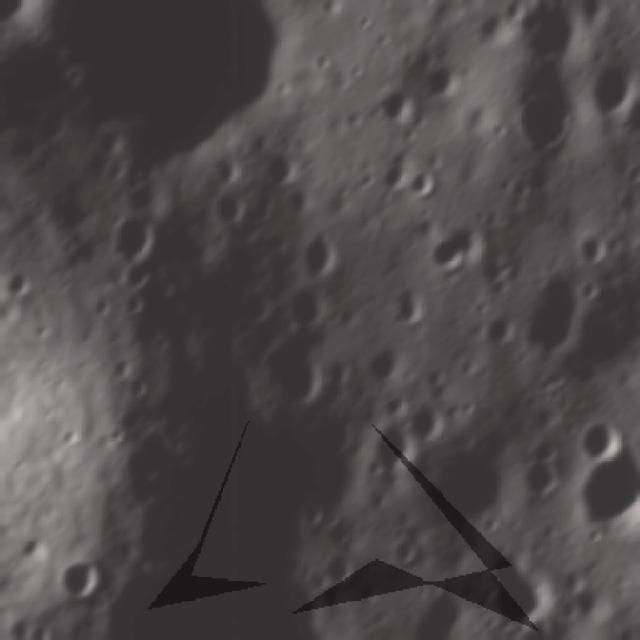crater: (3, 0, 294, 168), (473, 546, 559, 628), (512, 267, 586, 356), (578, 444, 638, 533), (509, 85, 580, 160), (102, 208, 168, 278), (262, 341, 324, 408), (420, 217, 477, 286), (518, 4, 578, 62), (367, 416, 418, 478), (587, 59, 635, 124), (408, 61, 464, 116), (53, 550, 105, 604), (512, 458, 566, 509), (572, 412, 626, 461), (359, 344, 413, 388), (406, 394, 454, 443), (279, 284, 327, 330), (258, 147, 308, 190), (294, 226, 335, 277), (372, 86, 421, 128), (568, 224, 610, 270), (318, 546, 356, 592), (388, 284, 426, 328), (209, 190, 248, 232), (380, 532, 422, 570), (317, 512, 354, 554), (478, 308, 514, 348), (204, 153, 242, 190), (14, 530, 51, 567), (375, 159, 411, 196), (405, 164, 444, 198), (118, 257, 156, 291), (325, 352, 358, 388), (525, 432, 561, 463), (101, 352, 132, 382), (122, 373, 150, 398), (576, 276, 598, 304)
